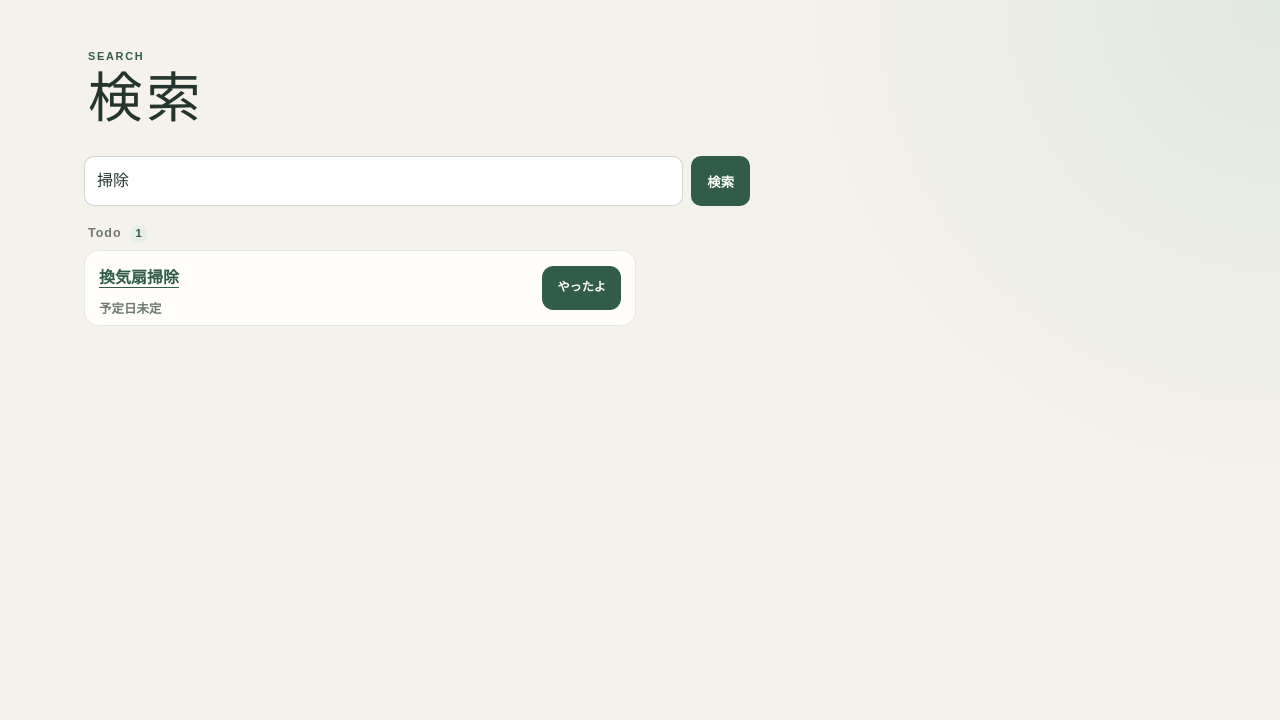
Scenario: 横断検索の画面 › Todoのやったよから既存の完了記録ダイアログを開ける
The image size is (1280, 720).
Click the button with aria-label "換気扇掃除を記録".
click(582, 288)  # box x1=542 y1=266 x2=621 y2=310
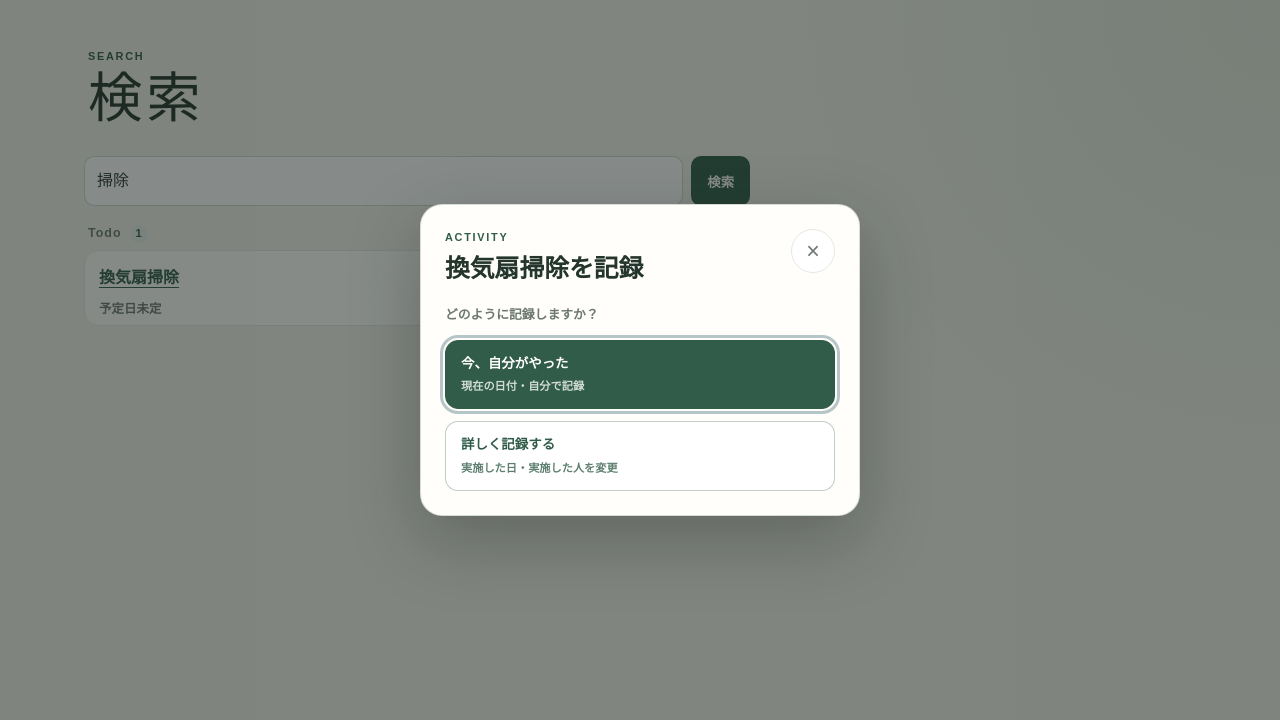
expect the dialog "換気扇掃除を記録" is shown: met, box x1=420 y1=204 x2=860 y2=516
expect the button "今、自分がやった" is shown: met, box x1=445 y1=340 x2=835 y2=409
expect the button "詳しく記録する 実施した日・実施した人を変更" is shown: met, box x1=445 y1=421 x2=835 y2=491
